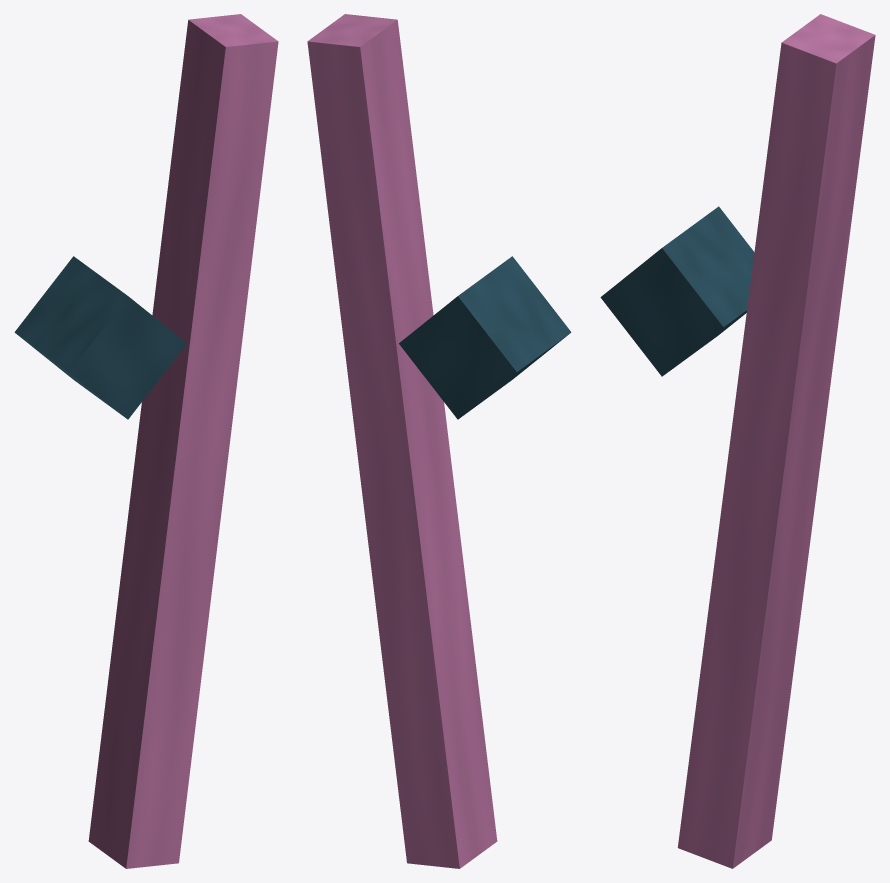
Rendered from atlas100-s064-a05.lod2.glb.
3 renders of one model, left to right at view 1: azimuth 30°, elevation 25°; view 2: azimuth 150°, elevation 25°; view 3: azimuth 330°, elevation 25°, orthographic. The views are drawn at different scales.
Parts seen in each view (by area): view 1: atlas100-s064-a05:part-001, atlas100-s064-a05:part-002; view 2: atlas100-s064-a05:part-001, atlas100-s064-a05:part-002; view 3: atlas100-s064-a05:part-001, atlas100-s064-a05:part-002.
Boxes of the visible parts, left/top/right/bottom form: atlas100-s064-a05:part-001: left=88, top=14, right=278, bottom=868; atlas100-s064-a05:part-002: left=14, top=256, right=186, bottom=419; atlas100-s064-a05:part-001: left=307, top=14, right=497, bottom=868; atlas100-s064-a05:part-002: left=399, top=256, right=571, bottom=419; atlas100-s064-a05:part-001: left=677, top=14, right=875, bottom=868; atlas100-s064-a05:part-002: left=600, top=206, right=754, bottom=376.
Size of the model in its own units: 0.2014 by 0.7102 by 0.0874.
Materials: 2 (2 with a texture image).
